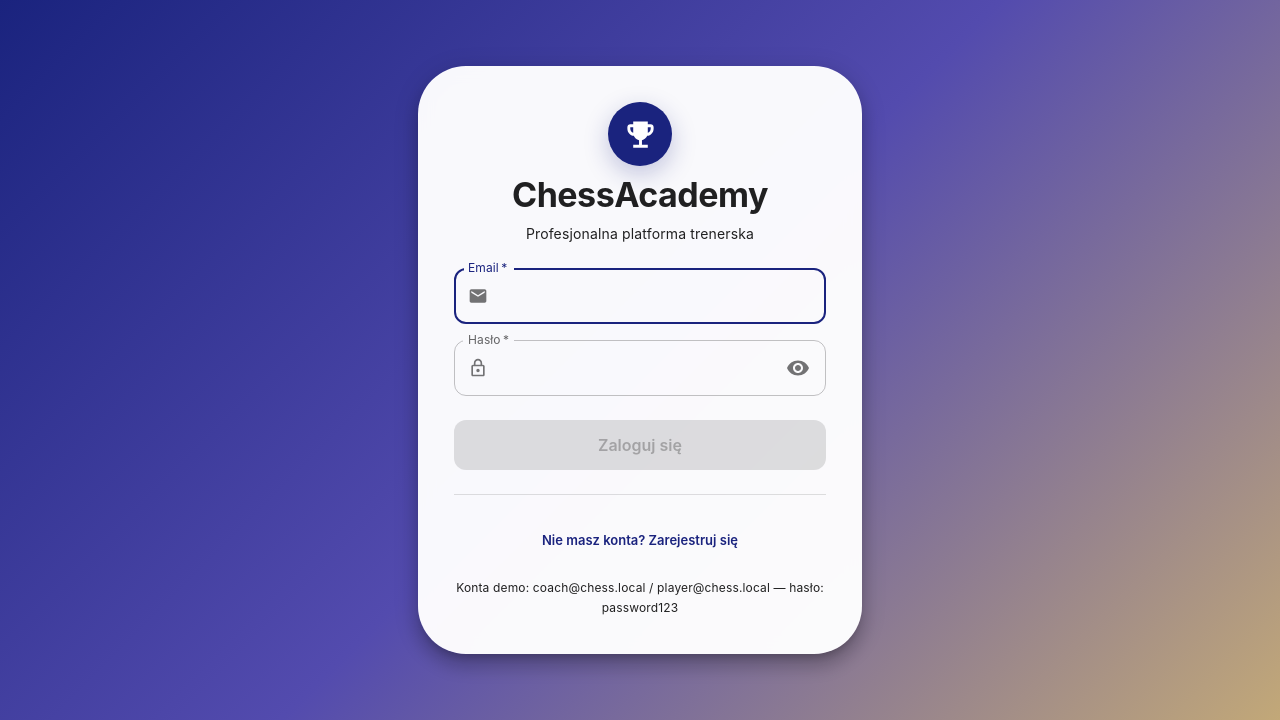
it: Login › clears email validation error when email becomes valid
The image size is (1280, 720).
Type "notanemail" into the field labelled "Email *". click: (661, 296)
box: [496,268,826,324]
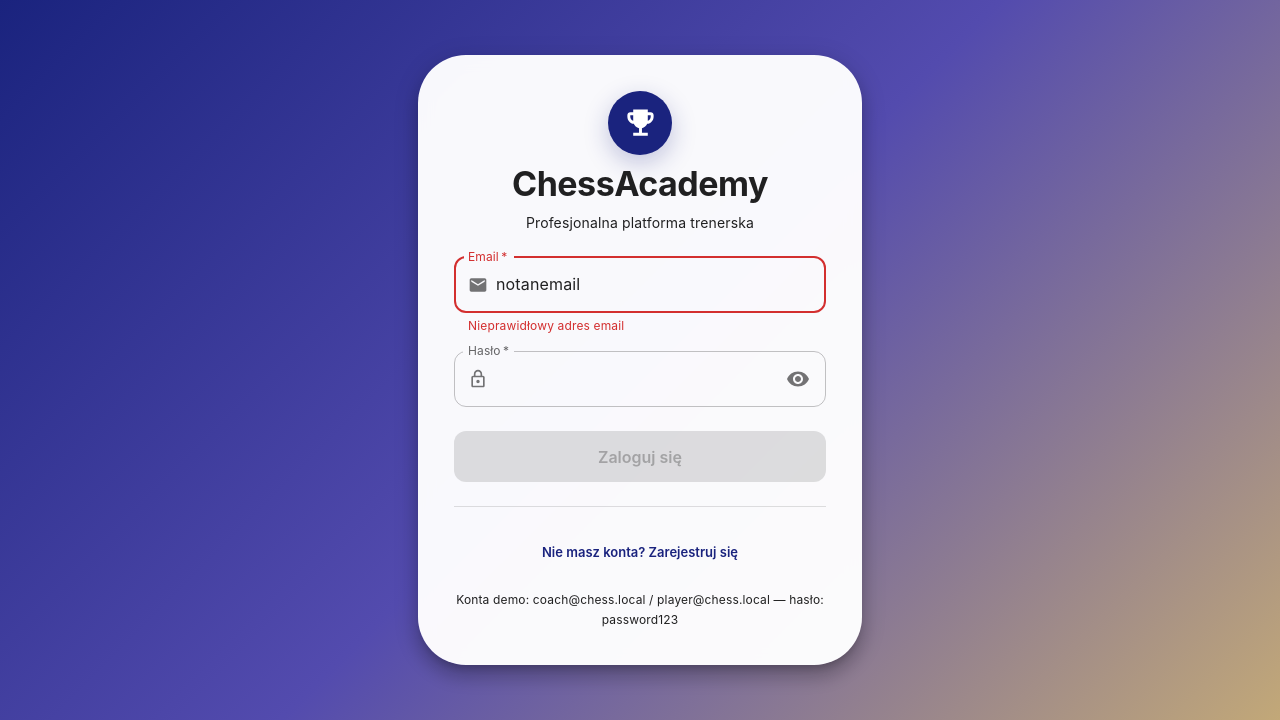
Type "secret123" into the password field labelled "Hasło *". click: (634, 380)
box: [496,352,773,408]
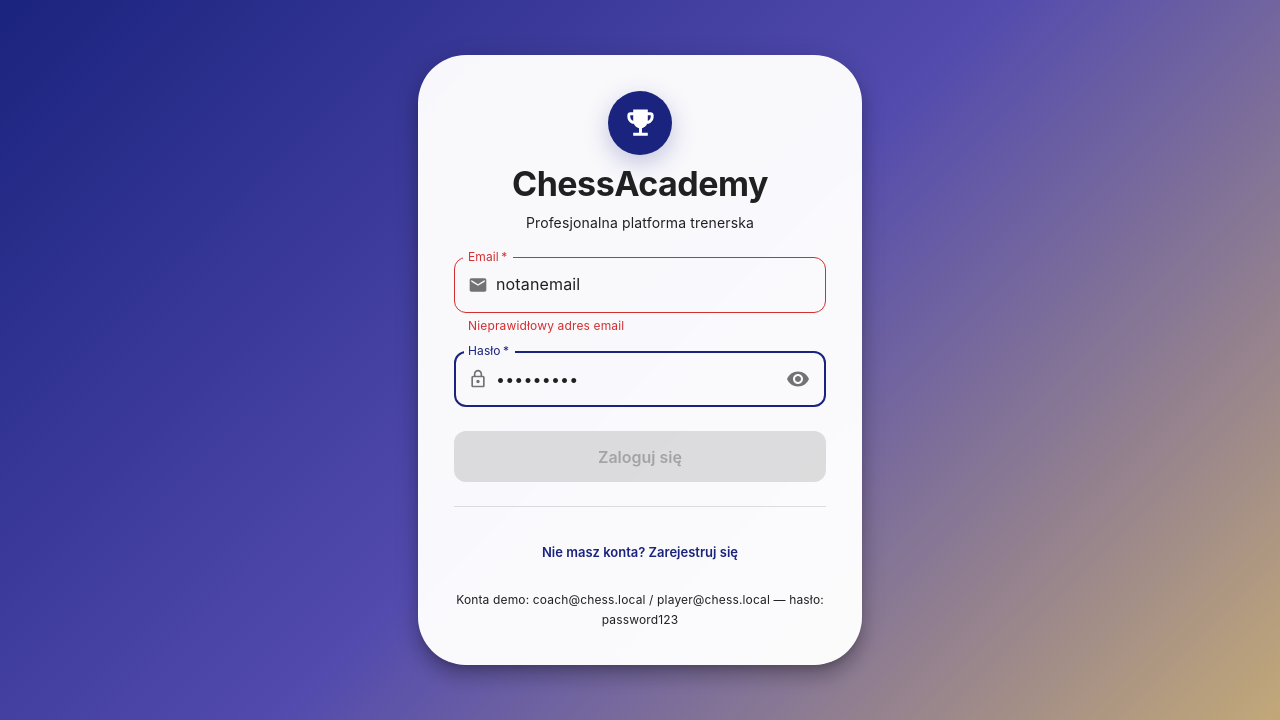
Check: the text "Nieprawidłowy adres email" is shown, box [468,318,624,333]
Clear the field labelled "Email *". click: (661, 285)
box: [496,257,826,313]
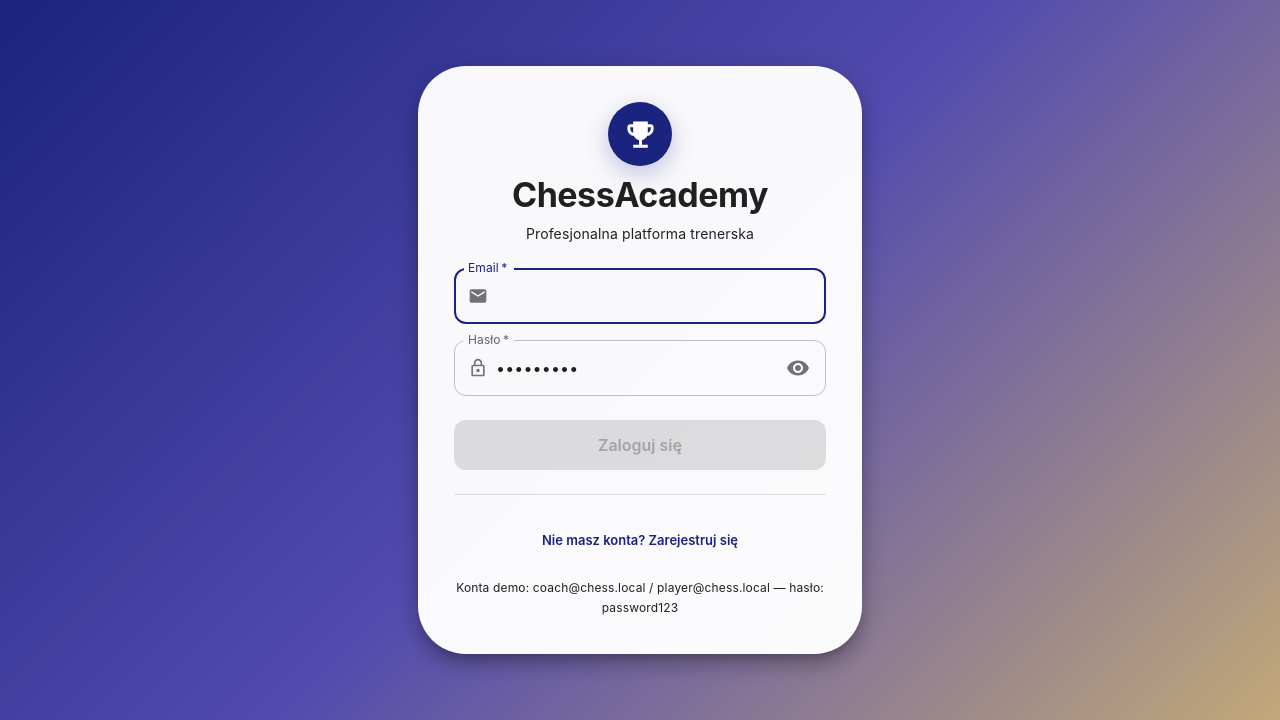
Type "test@chess.local" into the field labelled "Email *". click: (661, 296)
box: [496,268,826,324]
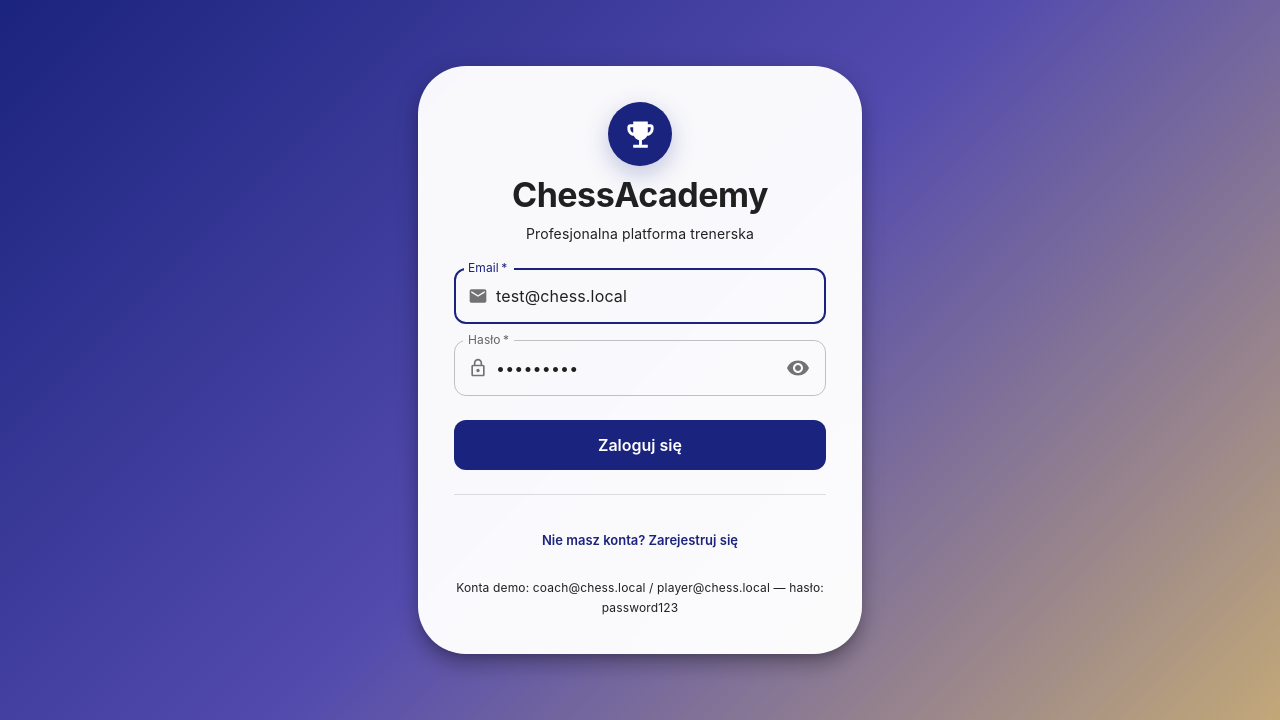
Check: the text "Nieprawidłowy adres email" is not shown
Check: the button "Zaloguj się" is enabled, box [454,420,826,470]
